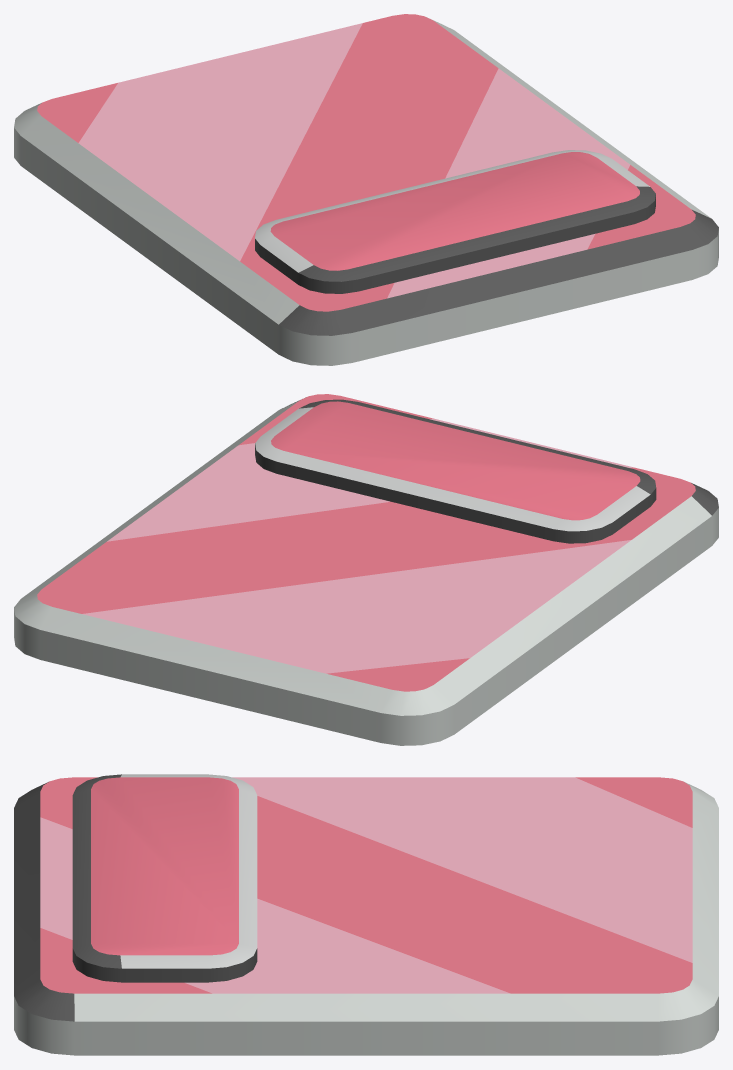
The model's file is handleSolo.fbx.
The picture shows the model from 3 angles, top to bottom: view 1: azimuth 30°, elevation 25°; view 2: azimuth 150°, elevation 25°; view 3: azimuth 270°, elevation 25°; orthographic projection. The views are drawn at different scales.
Visible parts, largest first — view 1: Plane.002, Plane.014; view 2: Plane.002, Plane.014; view 3: Plane.002, Plane.014.
Part boxes in pixels (x1=…): Plane.002: x1=14, y1=14, x2=718, y2=365; Plane.014: x1=255, y1=150, x2=655, y2=293; Plane.002: x1=14, y1=394, x2=718, y2=745; Plane.014: x1=255, y1=399, x2=656, y2=543; Plane.002: x1=14, y1=777, x2=718, y2=1055; Plane.014: x1=72, y1=774, x2=257, y2=982.
Bounding box in the file's own units: 763 × 103 × 950.
